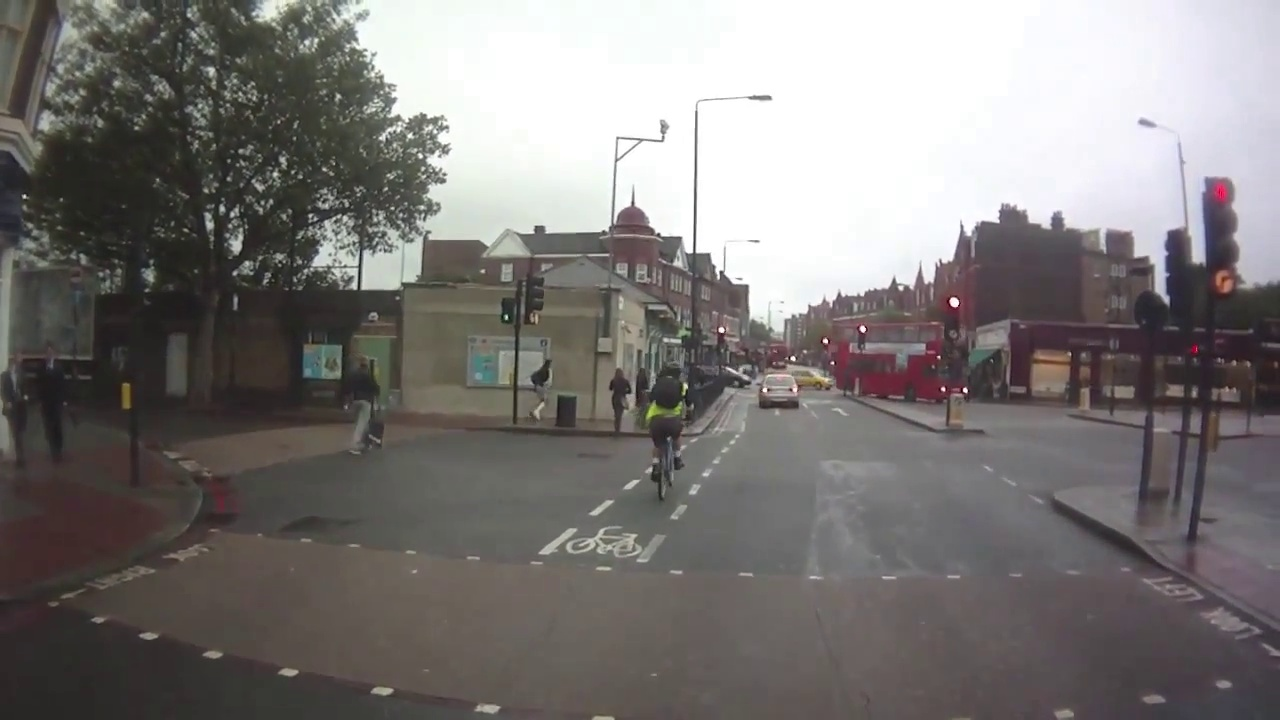cyclist_back: (645, 362, 694, 505)
